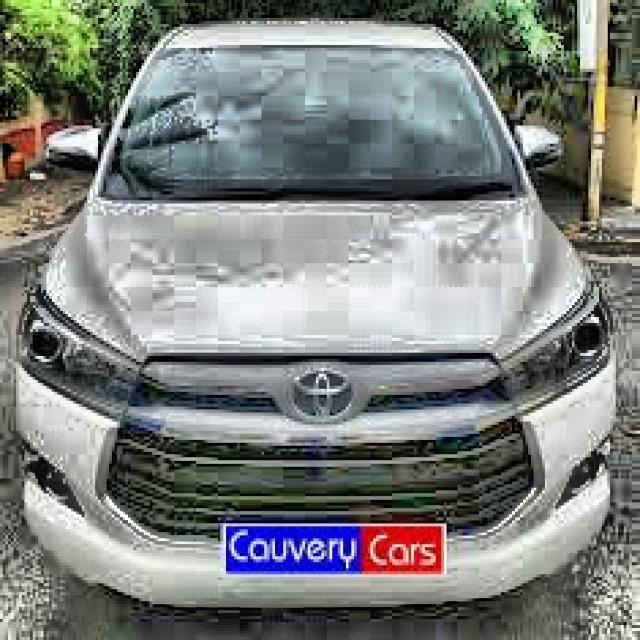light_vehicle: (17, 19, 616, 608)
